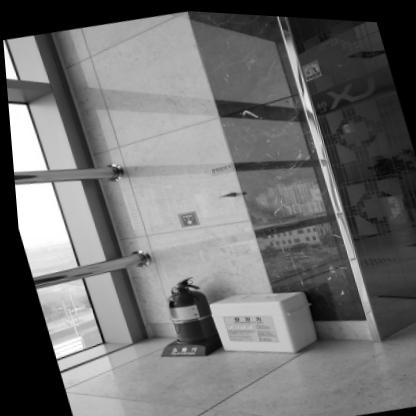DDL: (200, 275, 319, 365)
